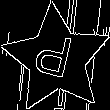P_S: (33, 30, 80, 88)
